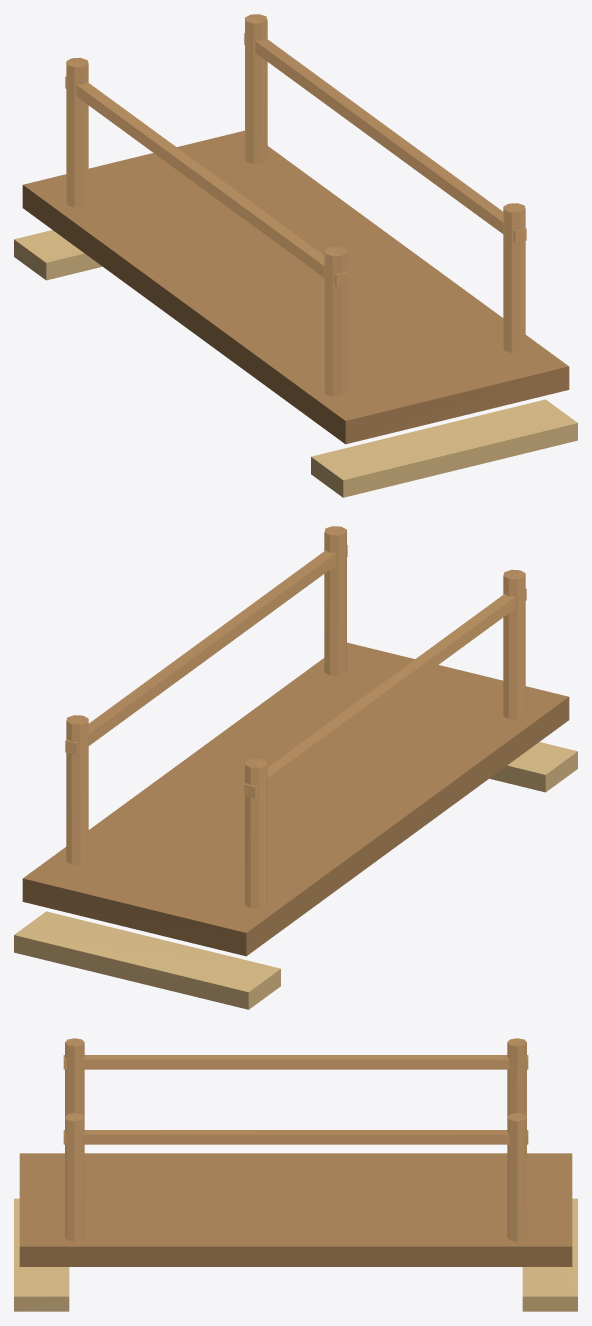
The model's file is footbridge.source.glb.
3 renders of one model, top to bottom at view 1: azimuth 30°, elevation 25°; view 2: azimuth 150°, elevation 25°; view 3: azimuth 270°, elevation 25°, orthographic. The views are drawn at different scales.
Visible parts, largest first — view 1: footbridge-deck-mesh, footbridge-step-2.3-mesh, footbridge-rail--0.8-mesh, footbridge-rail-0.8-mesh, footbridge-post--0.8-2-mesh, footbridge-post-0.8-2-mesh, footbridge-post--0.8--2-mesh, footbridge-post-0.8--2-mesh, footbridge-step--2.3-mesh; view 2: footbridge-deck-mesh, footbridge-step--2.3-mesh, footbridge-rail--0.8-mesh, footbridge-rail-0.8-mesh, footbridge-post--0.8--2-mesh, footbridge-post-0.8--2-mesh, footbridge-post--0.8-2-mesh, footbridge-post-0.8-2-mesh, footbridge-step-2.3-mesh; view 3: footbridge-deck-mesh, footbridge-rail--0.8-mesh, footbridge-rail-0.8-mesh, footbridge-step--2.3-mesh, footbridge-step-2.3-mesh, footbridge-post-0.8--2-mesh, footbridge-post-0.8-2-mesh, footbridge-post--0.8--2-mesh, footbridge-post--0.8-2-mesh.
Part boxes in pixels (<box>): footbridge-deck-mesh: <box>22,130,569,444</box>; footbridge-step-2.3-mesh: <box>311,399,577,497</box>; footbridge-rail--0.8-mesh: <box>65,76,347,286</box>; footbridge-rail-0.8-mesh: <box>244,33,526,242</box>; footbridge-post--0.8-2-mesh: <box>324,246,346,396</box>; footbridge-post-0.8-2-mesh: <box>503,203,525,352</box>; footbridge-post--0.8--2-mesh: <box>66,57,88,207</box>; footbridge-post-0.8--2-mesh: <box>245,14,267,163</box>; footbridge-step--2.3-mesh: <box>14,230,102,280</box>; footbridge-deck-mesh: <box>22,642,569,956</box>; footbridge-step--2.3-mesh: <box>14,911,280,1009</box>; footbridge-rail--0.8-mesh: <box>244,588,526,798</box>; footbridge-rail-0.8-mesh: <box>65,545,347,754</box>; footbridge-post--0.8--2-mesh: <box>245,758,267,908</box>; footbridge-post-0.8--2-mesh: <box>66,715,88,864</box>; footbridge-post--0.8-2-mesh: <box>503,569,525,719</box>; footbridge-post-0.8-2-mesh: <box>324,526,346,675</box>; footbridge-step-2.3-mesh: <box>489,742,577,792</box>; footbridge-deck-mesh: <box>19,1153,572,1266</box>; footbridge-rail--0.8-mesh: <box>63,1055,528,1069</box>; footbridge-rail-0.8-mesh: <box>63,1130,528,1144</box>; footbridge-step--2.3-mesh: <box>522,1198,577,1311</box>; footbridge-step-2.3-mesh: <box>14,1198,69,1311</box>; footbridge-post-0.8--2-mesh: <box>507,1113,526,1241</box>; footbridge-post-0.8-2-mesh: <box>65,1113,84,1241</box>; footbridge-post--0.8--2-mesh: <box>507,1038,526,1116</box>; footbridge-post--0.8-2-mesh: <box>65,1038,84,1116</box>.
Size of the model in its own units: 2.1 by 1.82 by 5.1.
